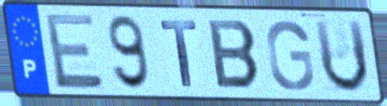9: (106, 13, 153, 93)
B: (205, 17, 263, 92)
E: (42, 11, 107, 92)
G: (264, 18, 316, 93)
T: (157, 19, 200, 90)
U: (311, 17, 372, 96)
